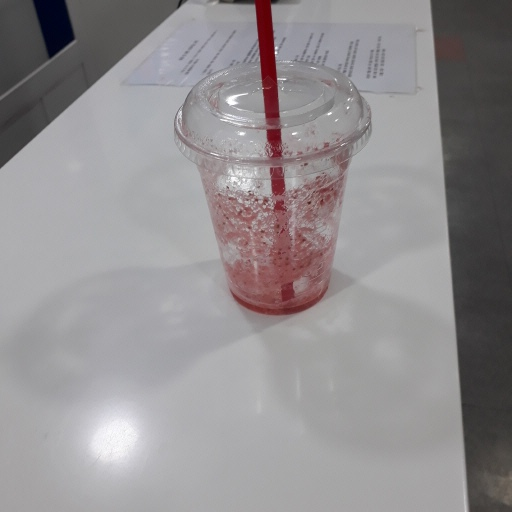Plastic_2: (173, 61, 376, 316)
